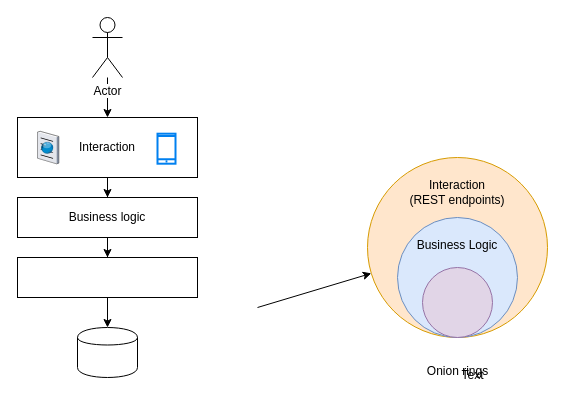
This 565x403 diagram has some shape labels left out. Here are the shapes that lost their labels. From the top down, the centre of each, then its label:
At (107,277): "Data Tear".
At (457,302): "Business Entities".
